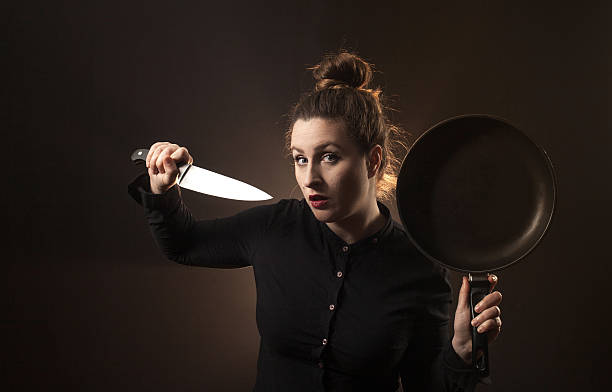knife: (132, 148, 276, 203)
